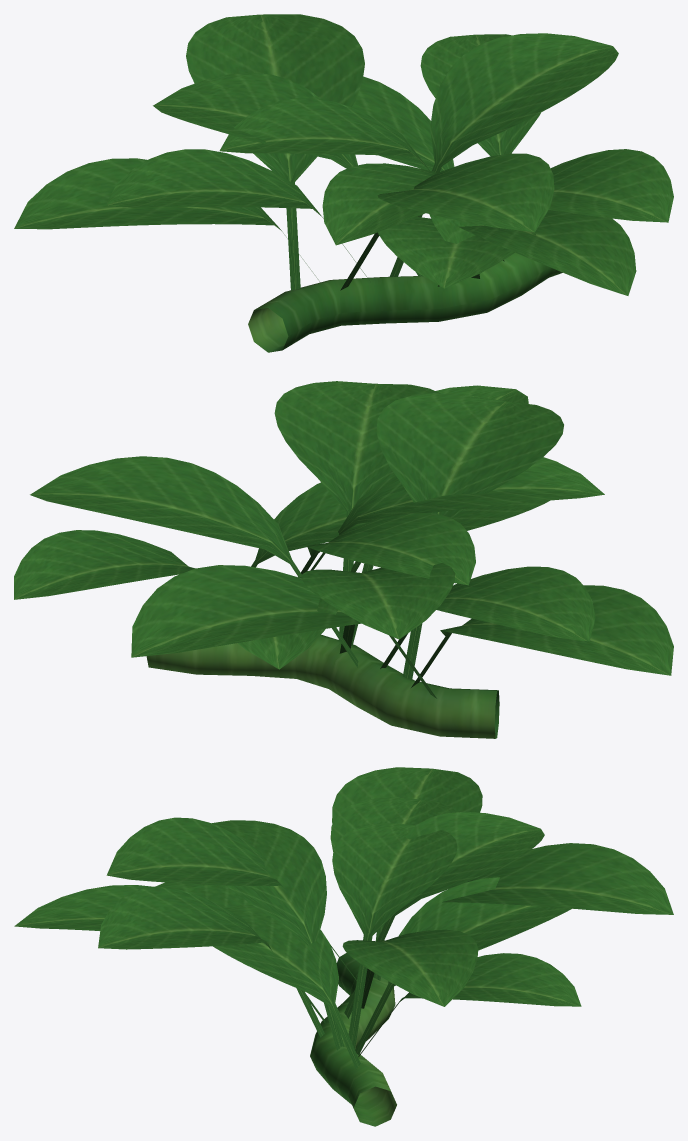
The model's file is anubias.glb.
3 views of the same model, one above another, from view 1: azimuth 30°, elevation 25°; view 2: azimuth 150°, elevation 25°; view 3: azimuth 270°, elevation 25° (orthographic). The views are drawn at different scales.
Visible parts, largest first — view 1: SwayAnubias0, SwayAnubias1; view 2: SwayAnubias0, SwayAnubias1; view 3: SwayAnubias0, SwayAnubias1.
Boxes of the visible parts, x1,y1,x2,y2 form: SwayAnubias0: [186, 14, 673, 352]; SwayAnubias1: [14, 72, 483, 281]; SwayAnubias0: [14, 381, 604, 738]; SwayAnubias1: [238, 482, 673, 687]; SwayAnubias0: [14, 817, 673, 1126]; SwayAnubias1: [213, 767, 571, 1069].
Size of the model in its own units: 0.8471 by 0.2795 by 0.8903.
1 material, 1 textured.
